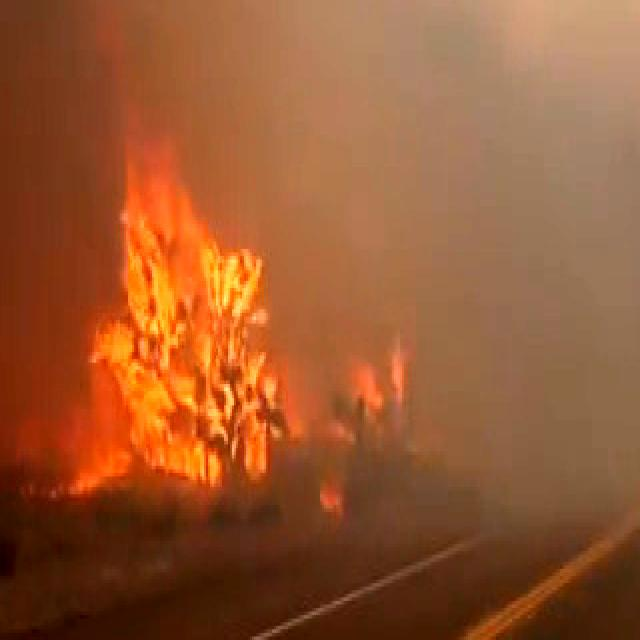fire: (230, 204, 430, 579), (59, 98, 223, 552)
smoke: (490, 235, 640, 533)
